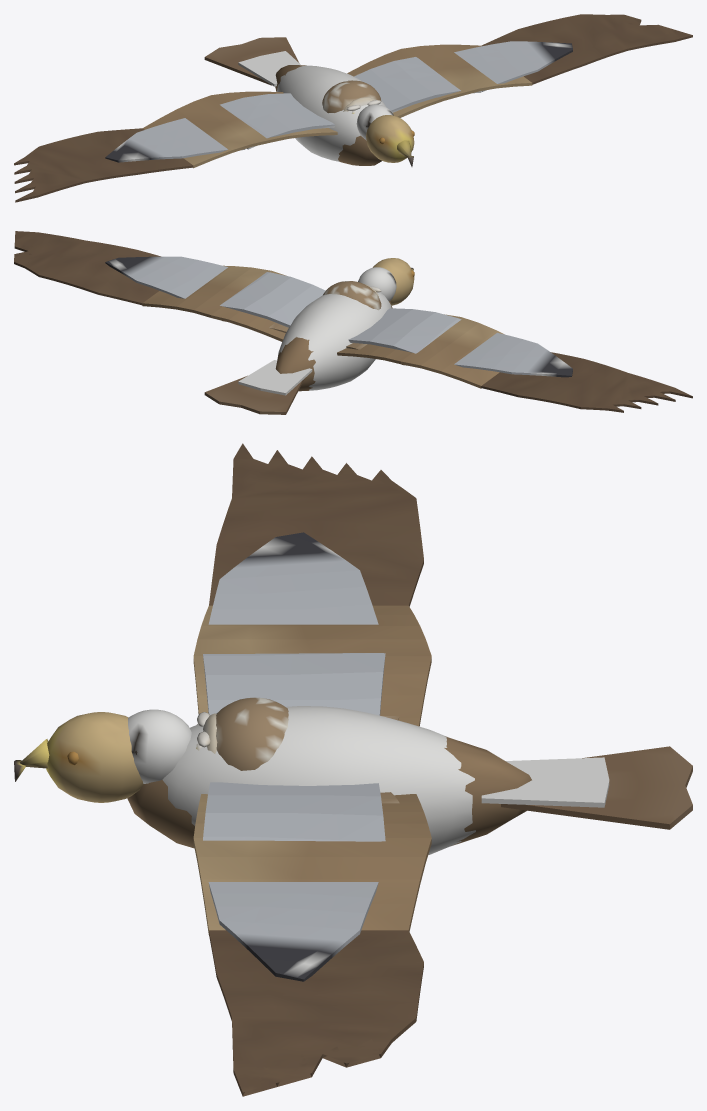
File: aves.glb
The picture shows the model from 3 angles, top to bottom: view 1: azimuth 30°, elevation 25°; view 2: azimuth 150°, elevation 25°; view 3: azimuth 270°, elevation 25°; orthographic projection. The views are drawn at different scales.
Parts seen in each view (by area): view 1: aguila_aI2, aguila_aD2, aguila_aI1, gaviota_cuerpo, aguila_aD1, gaviota_aD1, gaviota_aI2, gaviota_aD2, gaviota_aI1, aguila_cabeza, aguila_cola, mochuelo_cabeza (+3 smaller); view 2: aguila_aI2, aguila_aD2, gaviota_cuerpo, aguila_aI1, aguila_aD1, gaviota_aD1, gaviota_aI2, gaviota_aD2, gaviota_aI1, aguila_cola, gaviota_cola, aguila_cuerpo (+3 smaller); view 3: aguila_aD2, gaviota_cuerpo, aguila_aI2, aguila_aD1, gaviota_aD2, gaviota_aI2, aguila_aI1, gaviota_aD1, gaviota_aI1, aguila_cabeza, aguila_cola, aguila_cuerpo (+3 smaller).
Part boxes in pixels (bbox=[...]): aguila_aI2: bbox=[14, 128, 193, 202]; aguila_aD2: bbox=[481, 14, 692, 84]; aguila_aI1: bbox=[142, 91, 337, 168]; gaviota_cuerpo: bbox=[277, 65, 385, 161]; aguila_aD1: bbox=[347, 44, 532, 117]; gaviota_aD1: bbox=[354, 57, 481, 112]; gaviota_aI2: bbox=[105, 118, 245, 162]; gaviota_aD2: bbox=[454, 41, 572, 91]; gaviota_aI1: bbox=[220, 93, 334, 149]; aguila_cabeza: bbox=[366, 115, 414, 166]; aguila_cola: bbox=[204, 37, 298, 85]; mochuelo_cabeza: bbox=[322, 80, 381, 113]; aguila_aI2: bbox=[481, 352, 692, 412]; aguila_aD2: bbox=[14, 231, 160, 305]; gaviota_cuerpo: bbox=[277, 292, 391, 390]; aguila_aI1: bbox=[337, 314, 504, 388]; aguila_aD1: bbox=[142, 265, 286, 341]; gaviota_aD1: bbox=[220, 272, 325, 327]; gaviota_aI2: bbox=[454, 332, 572, 377]; gaviota_aD2: bbox=[105, 256, 227, 298]; gaviota_aI1: bbox=[348, 308, 461, 353]; aguila_cola: bbox=[204, 375, 304, 414]; gaviota_cola: bbox=[238, 360, 312, 395]; aguila_cuerpo: bbox=[275, 301, 392, 391]; aguila_aD2: bbox=[209, 930, 423, 1096]; gaviota_cuerpo: bbox=[162, 706, 475, 854]; aguila_aI2: bbox=[209, 443, 423, 606]; aguila_aD1: bbox=[193, 794, 431, 934]; gaviota_aD2: bbox=[208, 882, 378, 981]; gaviota_aI2: bbox=[208, 532, 378, 624]; aguila_aI1: bbox=[193, 605, 431, 726]; gaviota_aD1: bbox=[203, 782, 385, 841]; gaviota_aI1: bbox=[203, 653, 385, 715]; aguila_cabeza: bbox=[14, 712, 143, 802]; aguila_cola: bbox=[501, 746, 692, 829]; aguila_cuerpo: bbox=[127, 736, 531, 848].
Bounding box in the file's own units: 2 × 0.2362 × 0.8837.
